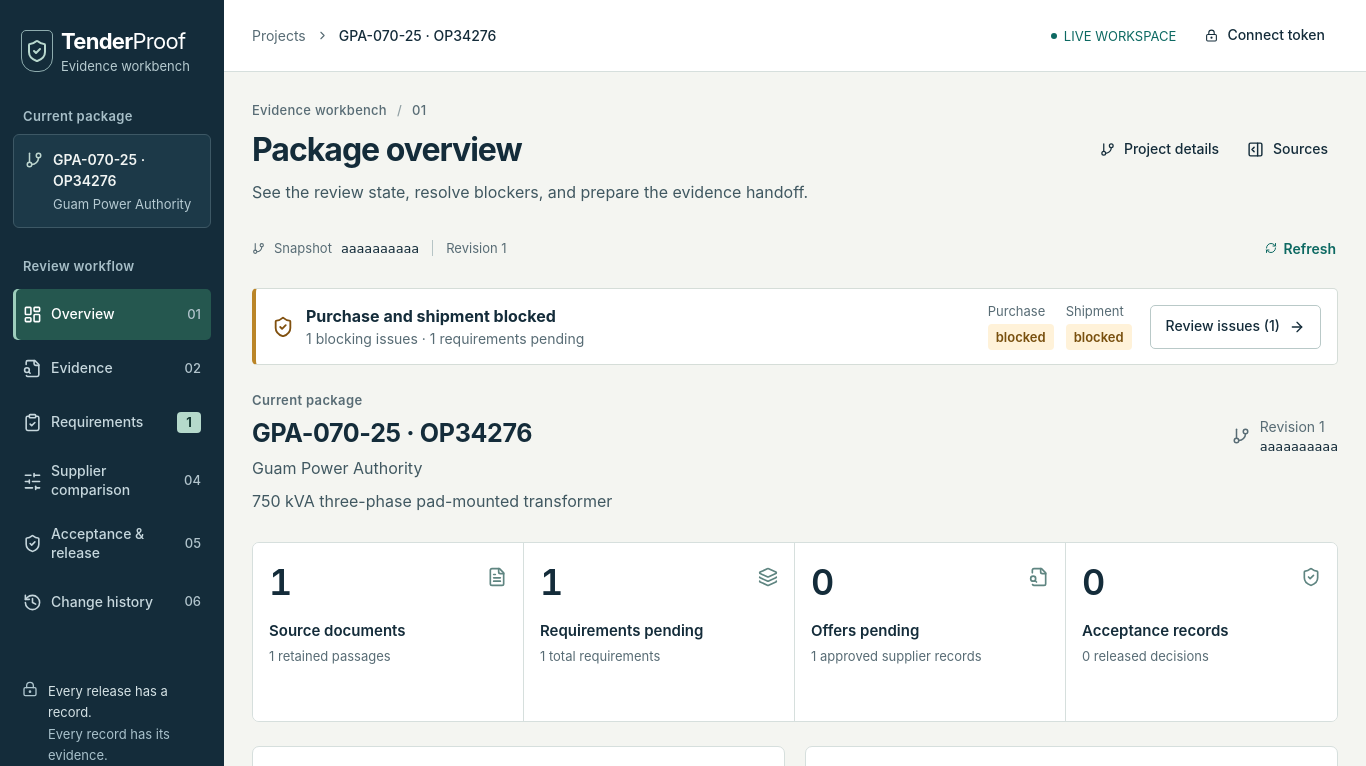
snapshot integrity and unavailable reads › shows a failed search without substituting local source results
Click the button "Evidence 02".
click(112, 369)  # box [13,343,211,394]
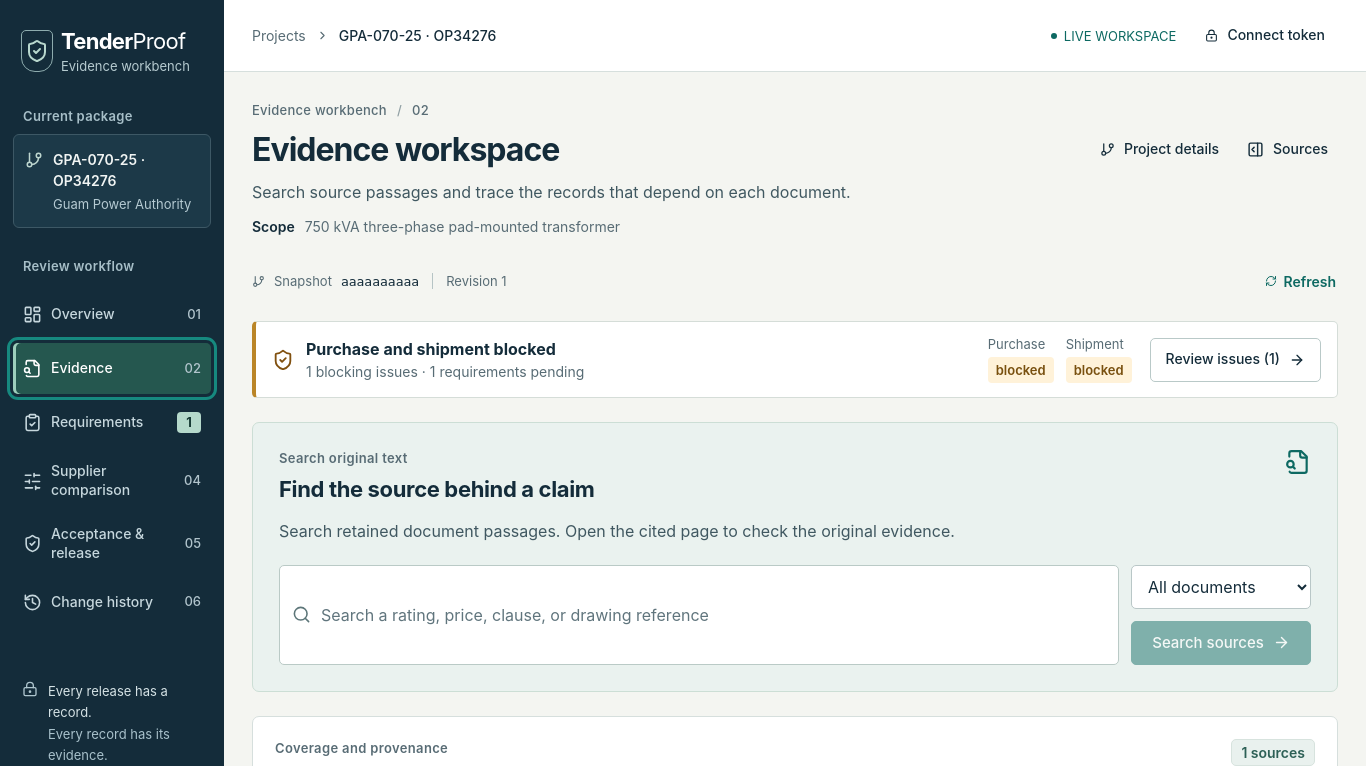
Type "750" into the field named "Search source text".
click(714, 615); type("750")  # box [321,593,1106,637]
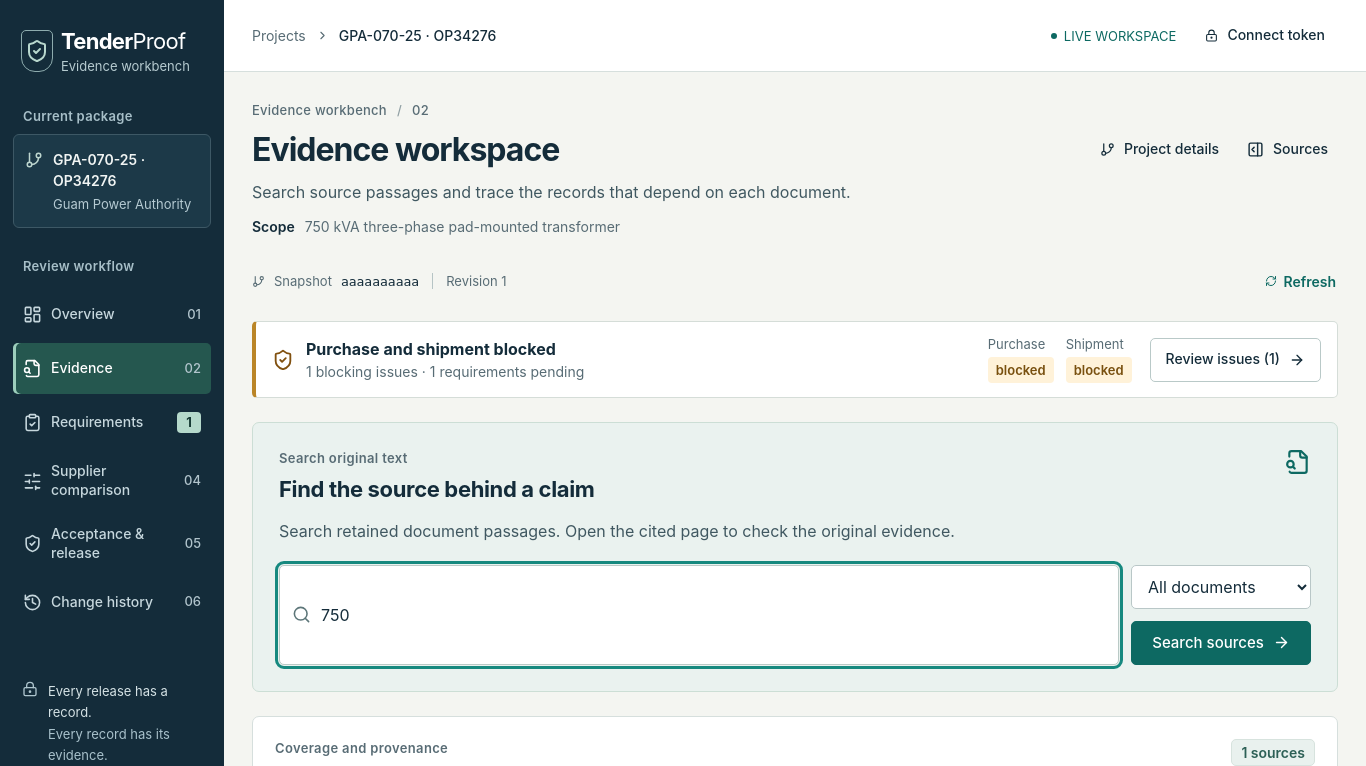
Click the button "Search sources".
click(1221, 643)  # box [1131,621,1311,665]
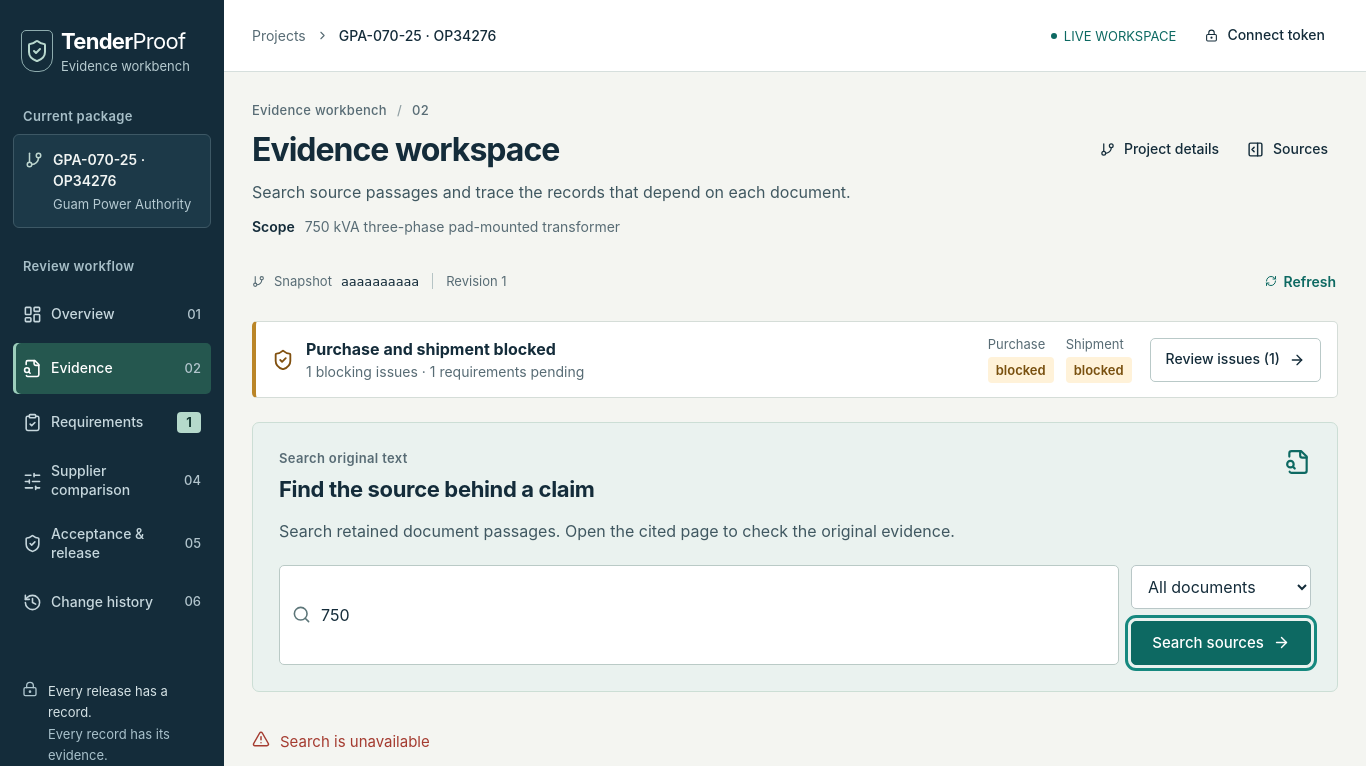
Expected: the message reads "Search is unavailable", [280,732,430,751]
